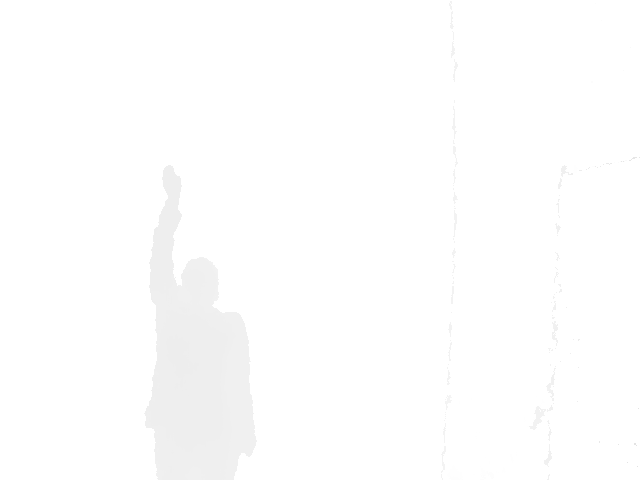hand: (160, 163, 182, 206)
head: (181, 257, 220, 308)
person: (143, 163, 258, 480)
